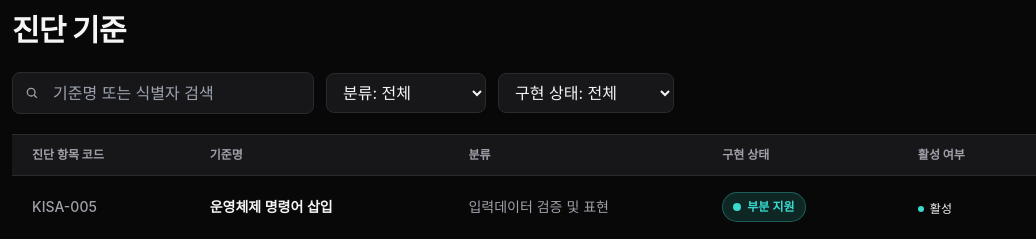
Test: E6 results and catalog pages › keeps catalog search and filters read-only for USER
Check: the text "운영체제 명령어 삽입" is shown, box [210,198,333,215]
Check: the dropdown named "분류 필터" is shown, box [326,73,486,113]
Type "없는 항목" into the field named "카탈로그 검색". click: (163, 93)
box: [12,72,314,114]
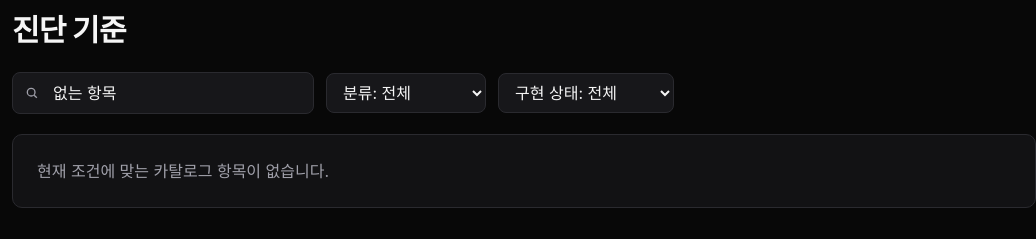
Check: the text "현재 조건에 맞는 카탈로그 항목이 없습니다." is shown, box [12,134,1035,208]
